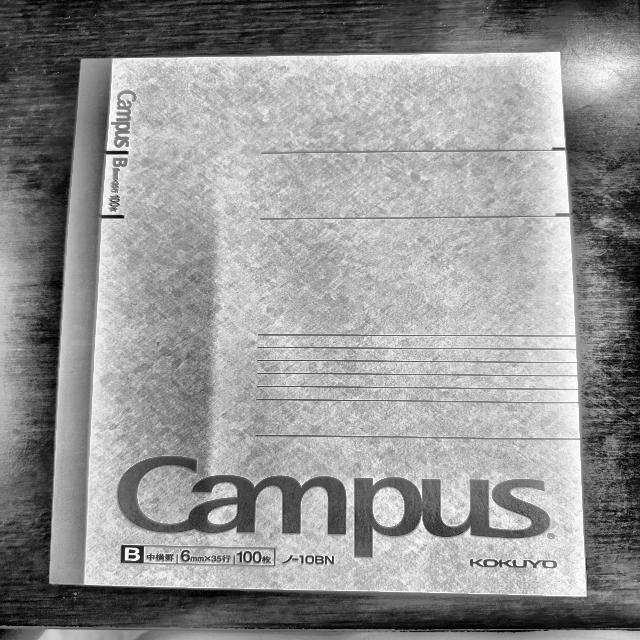Notebook: (45, 44, 591, 601)
